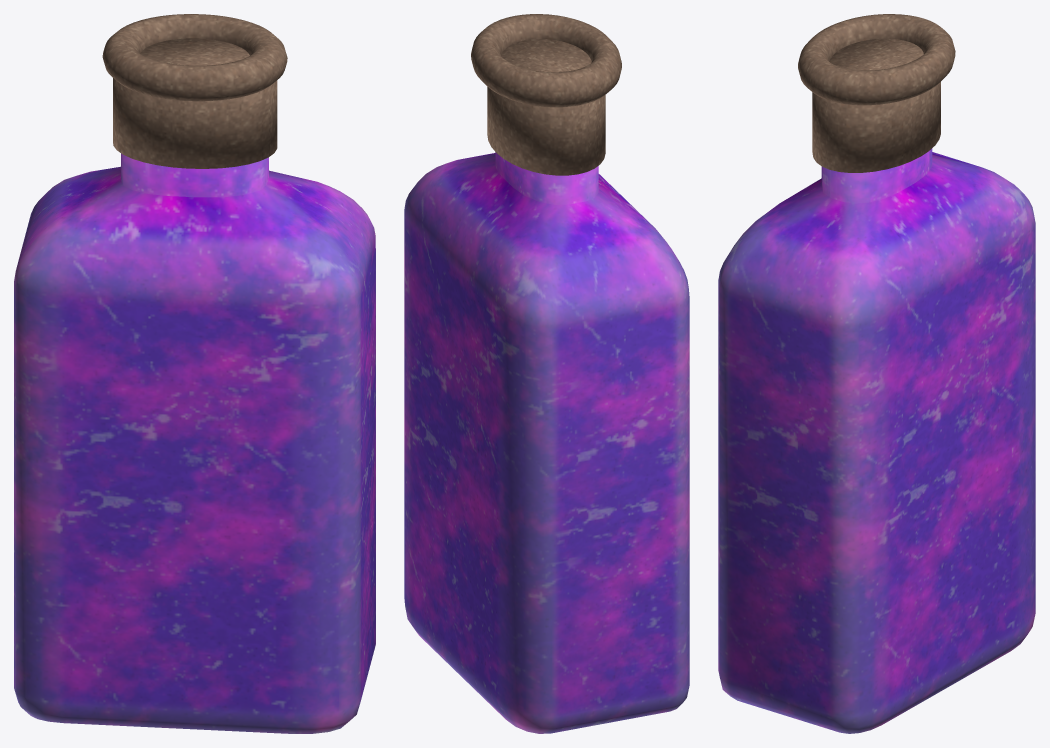
The model's file is fiolka_nast.glb.
3 views of the same model, side by side, from view 1: azimuth 30°, elevation 25°; view 2: azimuth 150°, elevation 25°; view 3: azimuth 270°, elevation 25° (orthographic). The views are drawn at different scales.
Parts seen in each view (by area): view 1: fiolka; view 2: fiolka; view 3: fiolka.
Part boxes in pixels (x1=…): fiolka: x1=14, y1=14, x2=375, y2=733; fiolka: x1=404, y1=14, x2=689, y2=733; fiolka: x1=718, y1=14, x2=1035, y2=733.
Size of the model in its own units: 0.092 by 0.1776 by 0.0818.
Materials: 1 (1 with a texture image).
